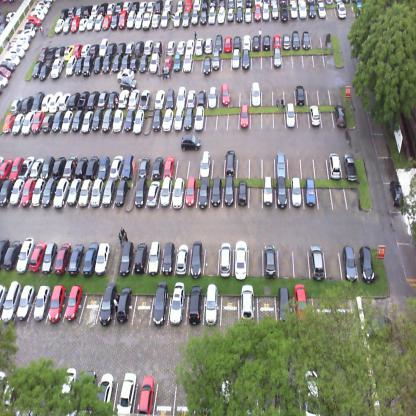car: (1, 368, 22, 413), (1, 280, 22, 323), (117, 371, 137, 415), (98, 282, 117, 328), (58, 367, 77, 411), (64, 283, 84, 323), (303, 368, 320, 415), (292, 280, 310, 324), (47, 283, 66, 324), (169, 281, 186, 326), (32, 284, 52, 322), (96, 372, 113, 416), (78, 367, 96, 408), (16, 284, 35, 322), (364, 316, 394, 340), (152, 281, 168, 326), (138, 374, 155, 415), (16, 236, 34, 274), (358, 244, 375, 284), (240, 281, 255, 325), (204, 282, 219, 326), (309, 242, 325, 283), (342, 241, 358, 281), (187, 284, 202, 326), (3, 238, 22, 271), (190, 238, 205, 278), (53, 176, 71, 209), (116, 285, 132, 322), (277, 282, 291, 324), (55, 241, 72, 274), (95, 240, 111, 275), (118, 240, 134, 275), (68, 242, 84, 276), (82, 240, 98, 274), (219, 239, 232, 280), (29, 241, 46, 272), (171, 174, 185, 211), (219, 378, 233, 415), (388, 177, 404, 209), (343, 150, 358, 184), (42, 240, 57, 274), (382, 392, 404, 415), (235, 238, 247, 280), (147, 239, 161, 275), (18, 152, 36, 180), (133, 240, 148, 273), (175, 242, 190, 275), (133, 176, 148, 209), (78, 177, 94, 207), (264, 242, 276, 281), (146, 179, 162, 208), (0, 176, 16, 205), (162, 241, 176, 274), (101, 176, 116, 206), (8, 178, 26, 203), (20, 178, 35, 208), (115, 178, 131, 206), (31, 175, 45, 207), (159, 175, 172, 209), (42, 176, 57, 205), (198, 174, 210, 210), (62, 153, 78, 180), (275, 176, 288, 209), (303, 178, 317, 208), (91, 178, 105, 208), (51, 154, 67, 180), (185, 173, 197, 207), (68, 176, 82, 205), (21, 109, 36, 136), (84, 154, 100, 179), (290, 176, 302, 209), (223, 174, 235, 207), (30, 108, 45, 134), (28, 155, 44, 179), (48, 88, 64, 112), (181, 133, 202, 151), (132, 108, 146, 135), (328, 150, 341, 179), (225, 148, 238, 177), (194, 101, 206, 132), (121, 153, 135, 179), (333, 102, 347, 128), (199, 149, 211, 179), (109, 154, 124, 178), (41, 154, 56, 178), (81, 108, 94, 135), (9, 155, 23, 180), (112, 107, 126, 132), (263, 174, 273, 208), (98, 154, 111, 180), (71, 107, 84, 133), (250, 80, 262, 108), (238, 178, 249, 208), (211, 174, 221, 207), (285, 101, 296, 131), (138, 154, 151, 179), (308, 103, 321, 128), (61, 109, 74, 134), (173, 104, 185, 131), (75, 155, 89, 178), (0, 156, 14, 179), (11, 112, 25, 135), (2, 111, 16, 134), (75, 89, 90, 110), (152, 154, 164, 180), (220, 81, 232, 107), (175, 85, 188, 109), (101, 109, 114, 133), (50, 58, 64, 80), (0, 238, 9, 272), (92, 107, 104, 132), (38, 60, 52, 81), (276, 149, 286, 178), (163, 154, 175, 178), (207, 84, 218, 110), (163, 106, 174, 132), (152, 106, 163, 132), (186, 86, 198, 109), (154, 86, 166, 109), (65, 54, 77, 77), (128, 87, 141, 108), (32, 89, 45, 110), (66, 90, 79, 111), (86, 90, 101, 108), (118, 88, 130, 110), (52, 110, 64, 132), (295, 82, 305, 108), (184, 105, 194, 131), (182, 51, 193, 74), (42, 112, 54, 133), (41, 93, 54, 112), (140, 88, 151, 110), (124, 110, 135, 132), (125, 8, 136, 30), (108, 90, 120, 110), (11, 96, 25, 113), (119, 77, 136, 91), (240, 103, 249, 129), (22, 94, 35, 112), (112, 52, 123, 73), (102, 52, 113, 73), (83, 55, 94, 76), (98, 88, 110, 107), (61, 44, 75, 60), (70, 43, 84, 59), (165, 87, 175, 109), (93, 54, 103, 76), (74, 53, 84, 75), (117, 8, 127, 30), (272, 49, 282, 70), (150, 53, 160, 74), (59, 92, 70, 111), (116, 69, 135, 80), (141, 10, 152, 29), (4, 53, 20, 66), (241, 48, 250, 71), (196, 87, 206, 107), (300, 30, 310, 50), (162, 56, 172, 76), (194, 36, 204, 56), (133, 10, 143, 30), (298, 0, 308, 20), (231, 48, 240, 70), (32, 60, 43, 78), (101, 13, 112, 31), (215, 6, 226, 24), (54, 44, 66, 60), (139, 54, 149, 73), (70, 14, 80, 33), (352, 0, 362, 19), (215, 33, 224, 54), (99, 37, 110, 54), (212, 48, 220, 71), (291, 30, 300, 50), (121, 52, 130, 72), (0, 61, 15, 73), (143, 38, 155, 53), (166, 38, 176, 56), (185, 37, 195, 55), (60, 17, 72, 32), (94, 13, 104, 31), (110, 12, 120, 30), (150, 12, 160, 30), (159, 10, 169, 28), (234, 6, 244, 24), (316, 3, 327, 19), (37, 0, 53, 11), (53, 18, 64, 34), (175, 40, 186, 56), (204, 36, 213, 55), (224, 34, 233, 53), (86, 14, 95, 33), (336, 2, 346, 19), (13, 39, 30, 49), (171, 10, 181, 27), (252, 4, 262, 21), (202, 54, 210, 75), (0, 66, 12, 80), (21, 27, 36, 38), (242, 33, 251, 51), (280, 4, 289, 22), (134, 38, 144, 54), (252, 33, 260, 53), (190, 10, 200, 26), (46, 46, 58, 59), (25, 21, 39, 32), (31, 10, 45, 21), (116, 40, 127, 54), (125, 40, 136, 54), (153, 39, 164, 53), (173, 53, 181, 72), (262, 2, 270, 21), (271, 3, 279, 22), (290, 1, 298, 20), (308, 5, 318, 20), (10, 47, 25, 57), (81, 41, 91, 56), (232, 34, 242, 49), (83, 4, 93, 19), (282, 33, 290, 51), (272, 33, 281, 49), (0, 74, 9, 90), (262, 34, 270, 52), (208, 6, 216, 24), (243, 7, 252, 23), (78, 18, 88, 32), (198, 10, 208, 24), (39, 46, 49, 59), (90, 43, 100, 56), (181, 11, 189, 27), (130, 56, 139, 70), (28, 17, 42, 26), (107, 40, 116, 54), (98, 2, 107, 16), (227, 7, 235, 22), (76, 5, 86, 17), (90, 4, 100, 16), (154, 0, 164, 12), (35, 6, 49, 14), (106, 2, 116, 13), (122, 0, 132, 11), (183, 0, 193, 11), (18, 34, 31, 42), (60, 7, 70, 17), (162, 0, 171, 11), (115, 1, 123, 13), (193, 0, 201, 12), (69, 5, 76, 17), (131, 1, 139, 11), (176, 0, 183, 10), (146, 1, 154, 9), (140, 0, 146, 9)
